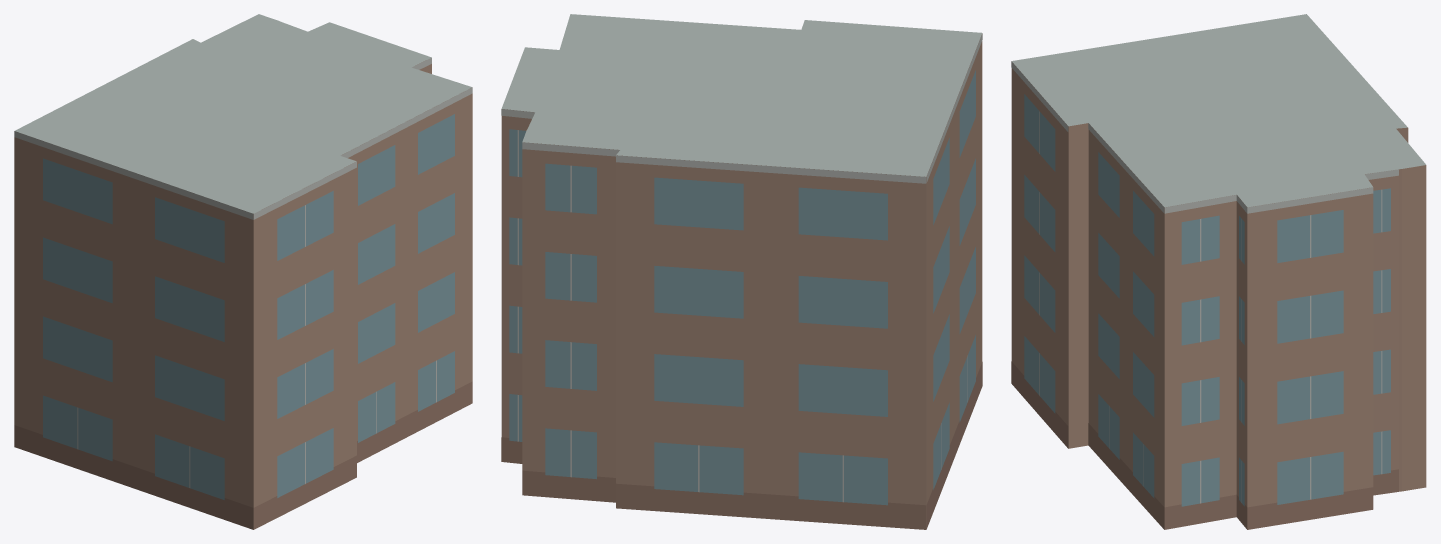
Rendered from survey-upis-32976825.glb.
The picture shows the model from 3 angles, left to right: view 1: azimuth 30°, elevation 25°; view 2: azimuth 150°, elevation 25°; view 3: azimuth 270°, elevation 25°; orthographic projection. The views are drawn at different scales.
Parts seen in each view (by area): view 1: survey-upis-32976825.tmp; view 2: survey-upis-32976825.tmp; view 3: survey-upis-32976825.tmp.
Part boxes in pixels (<box>): survey-upis-32976825.tmp: <box>14,14,472,529</box>; survey-upis-32976825.tmp: <box>501,14,982,529</box>; survey-upis-32976825.tmp: <box>1011,14,1426,529</box>.
Size of the model in its own units: 16.01 by 12.44 by 14.52.
